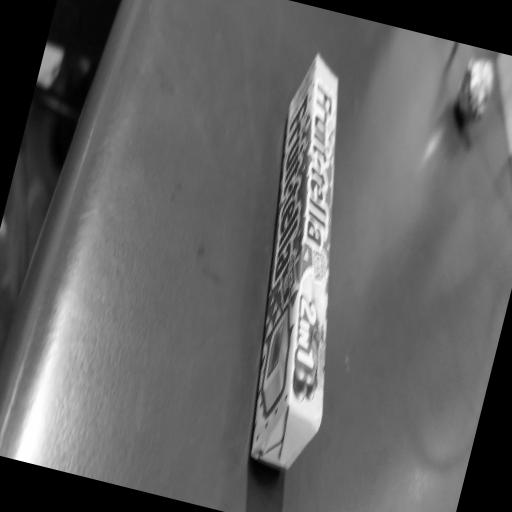Fruit-Tella: (286, 86, 344, 239)
chocolate: (200, 67, 400, 470)
